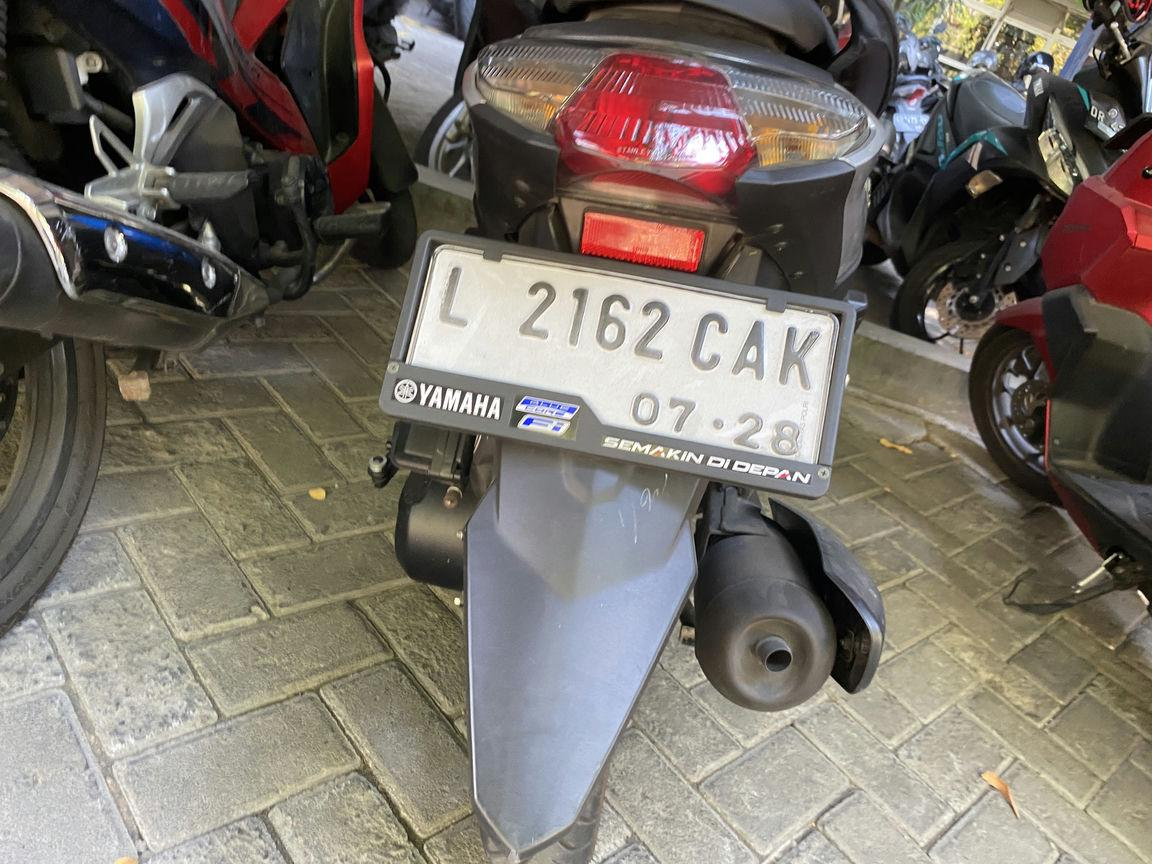plat: (380, 232, 855, 497)
